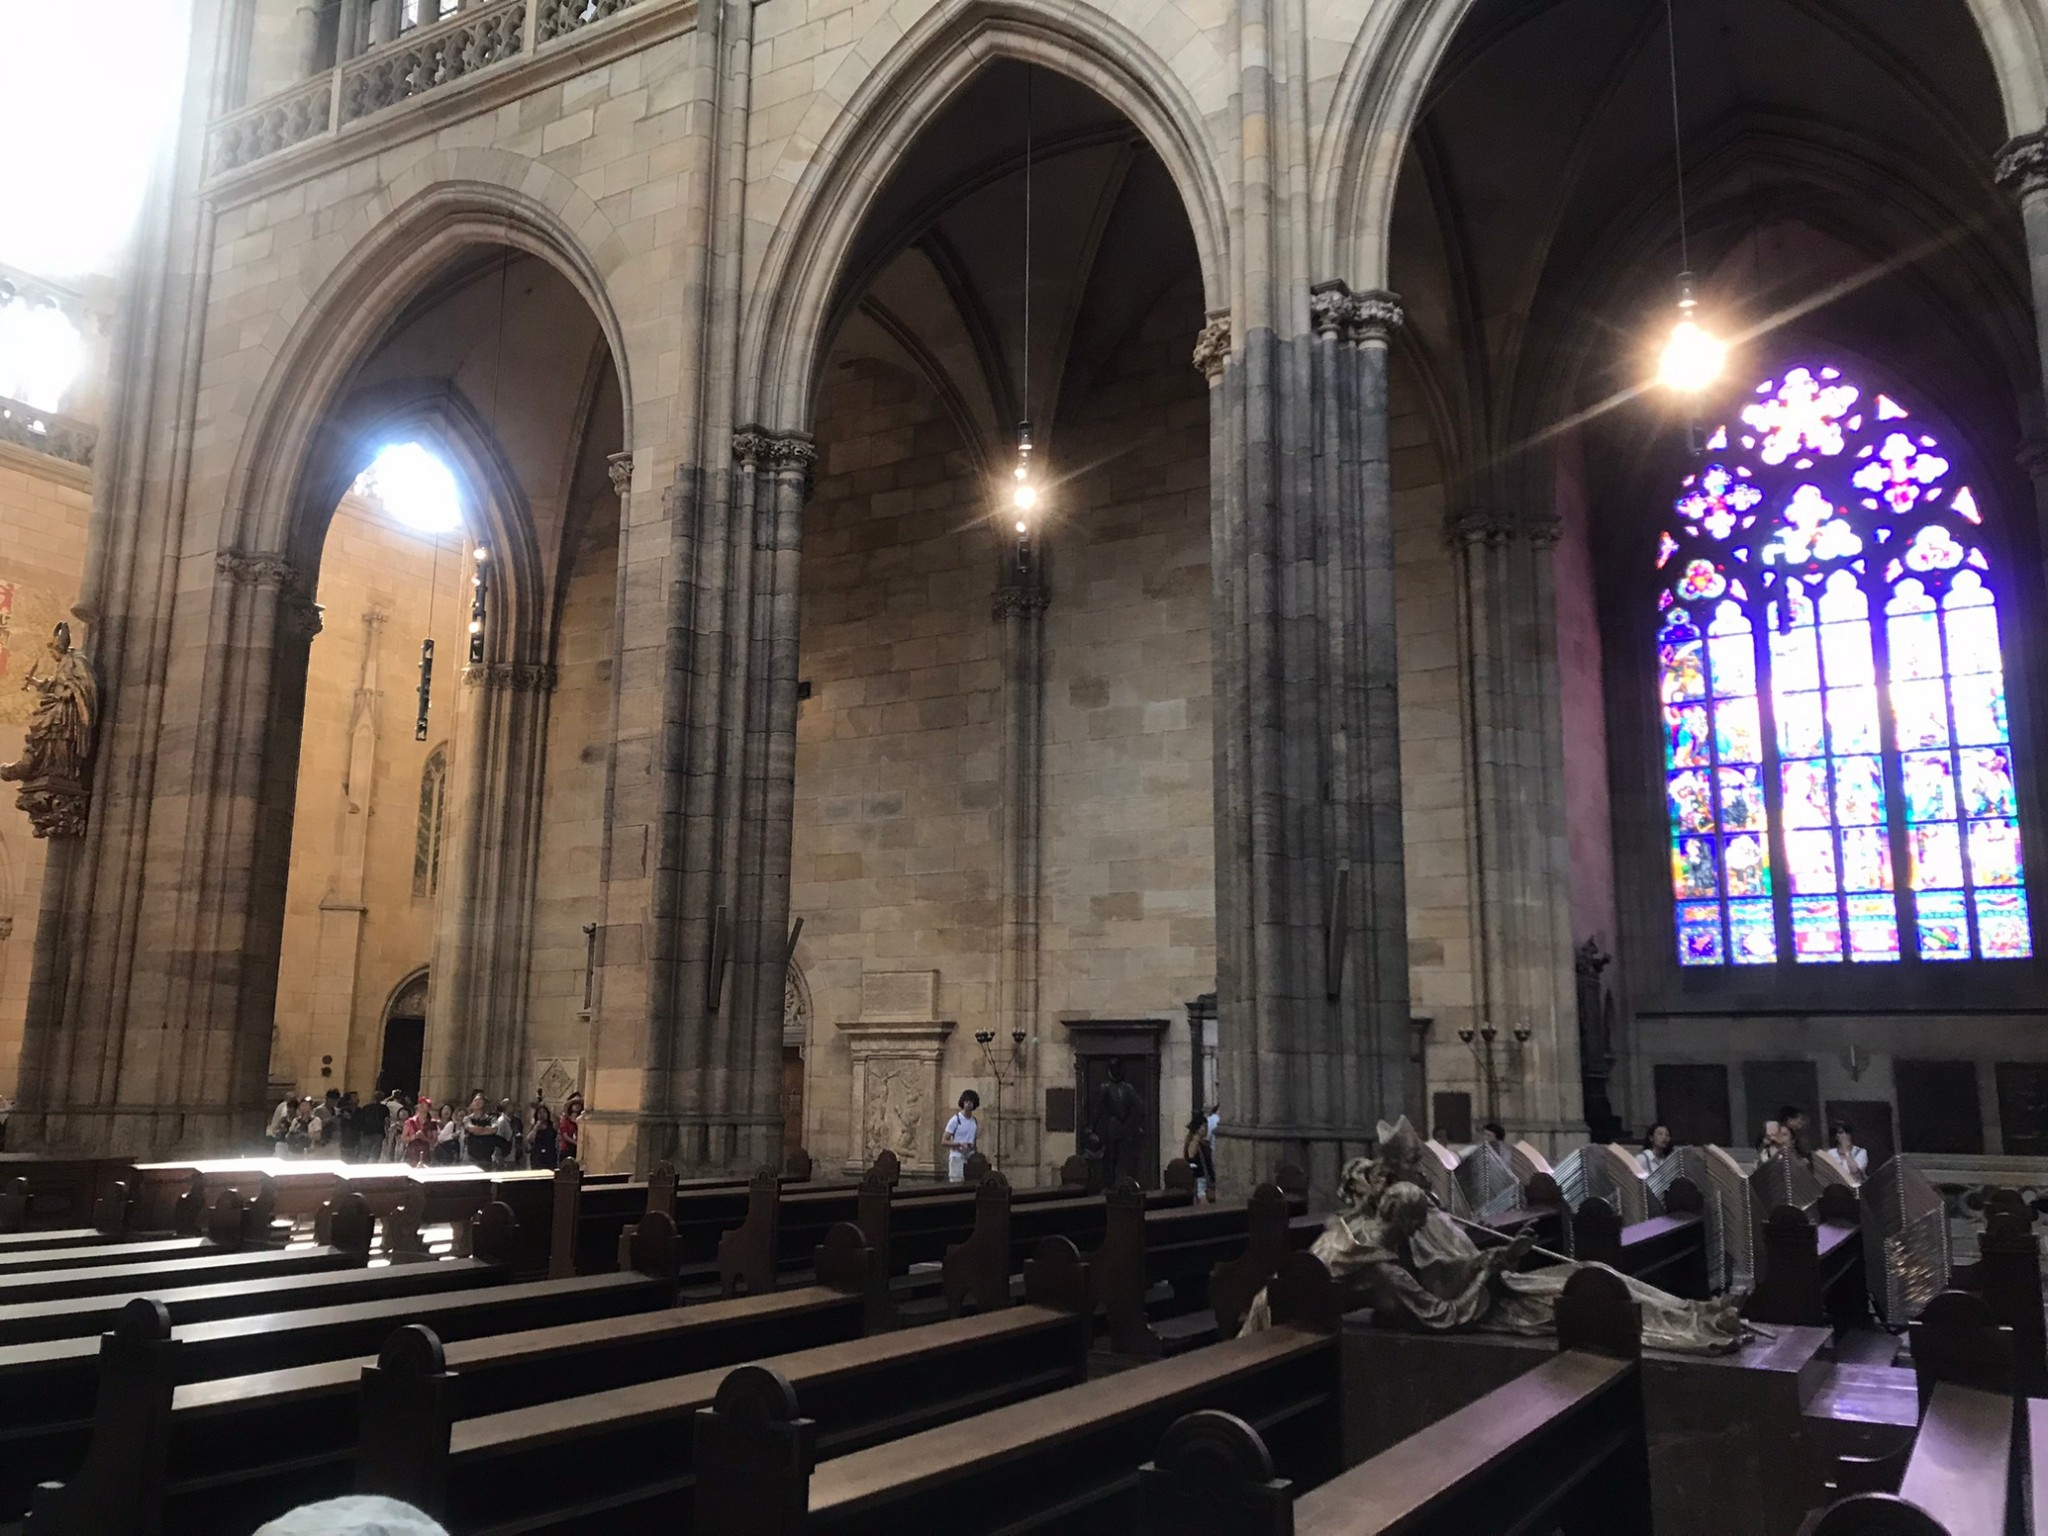people: (946, 1090, 993, 1190), (1640, 1116, 1687, 1216), (1184, 1113, 1225, 1210), (1825, 1122, 1869, 1213), (399, 1087, 437, 1172), (316, 1087, 349, 1160), (460, 1087, 490, 1160), (272, 1096, 307, 1160), (490, 1090, 513, 1152)
